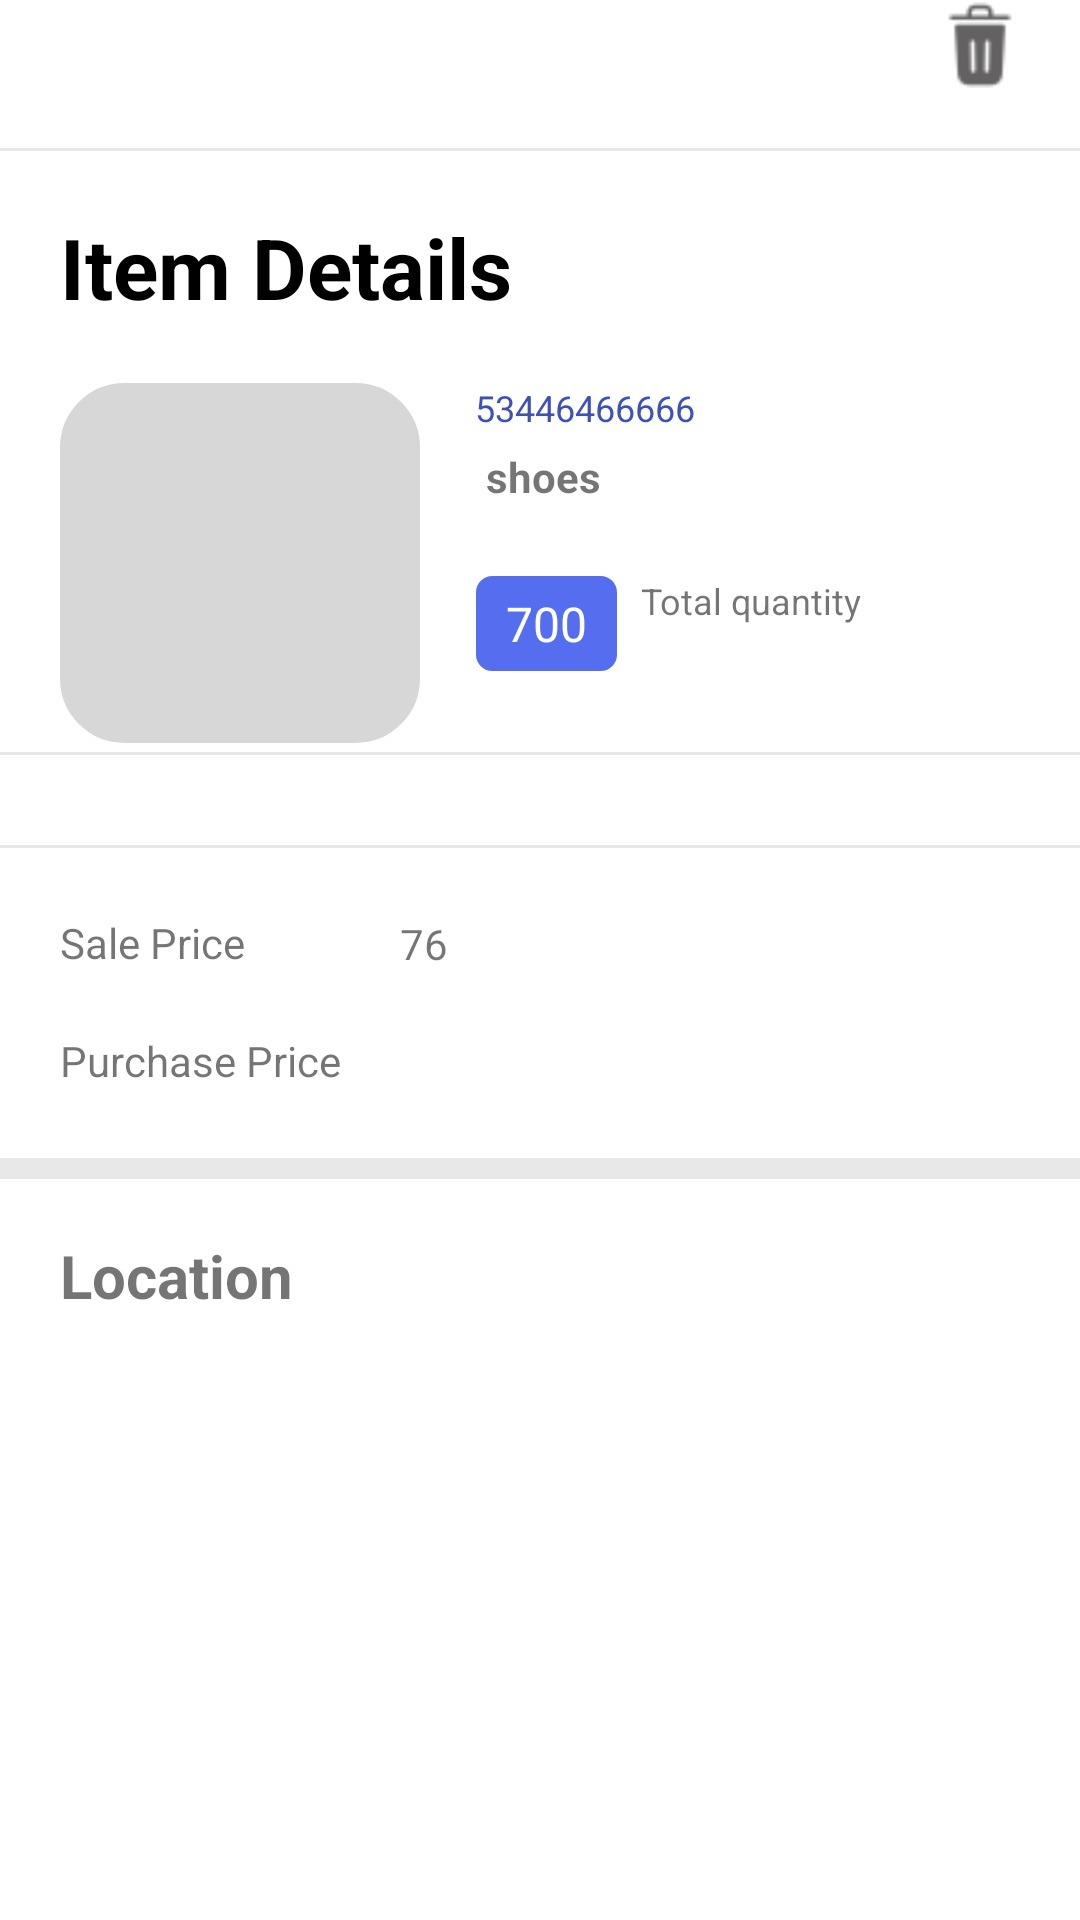

Named icons in this screenshot (1080 x 1920) and their bounding boxes, (x1, y1, x2, y2):
delete: (948, 3, 1011, 87)
